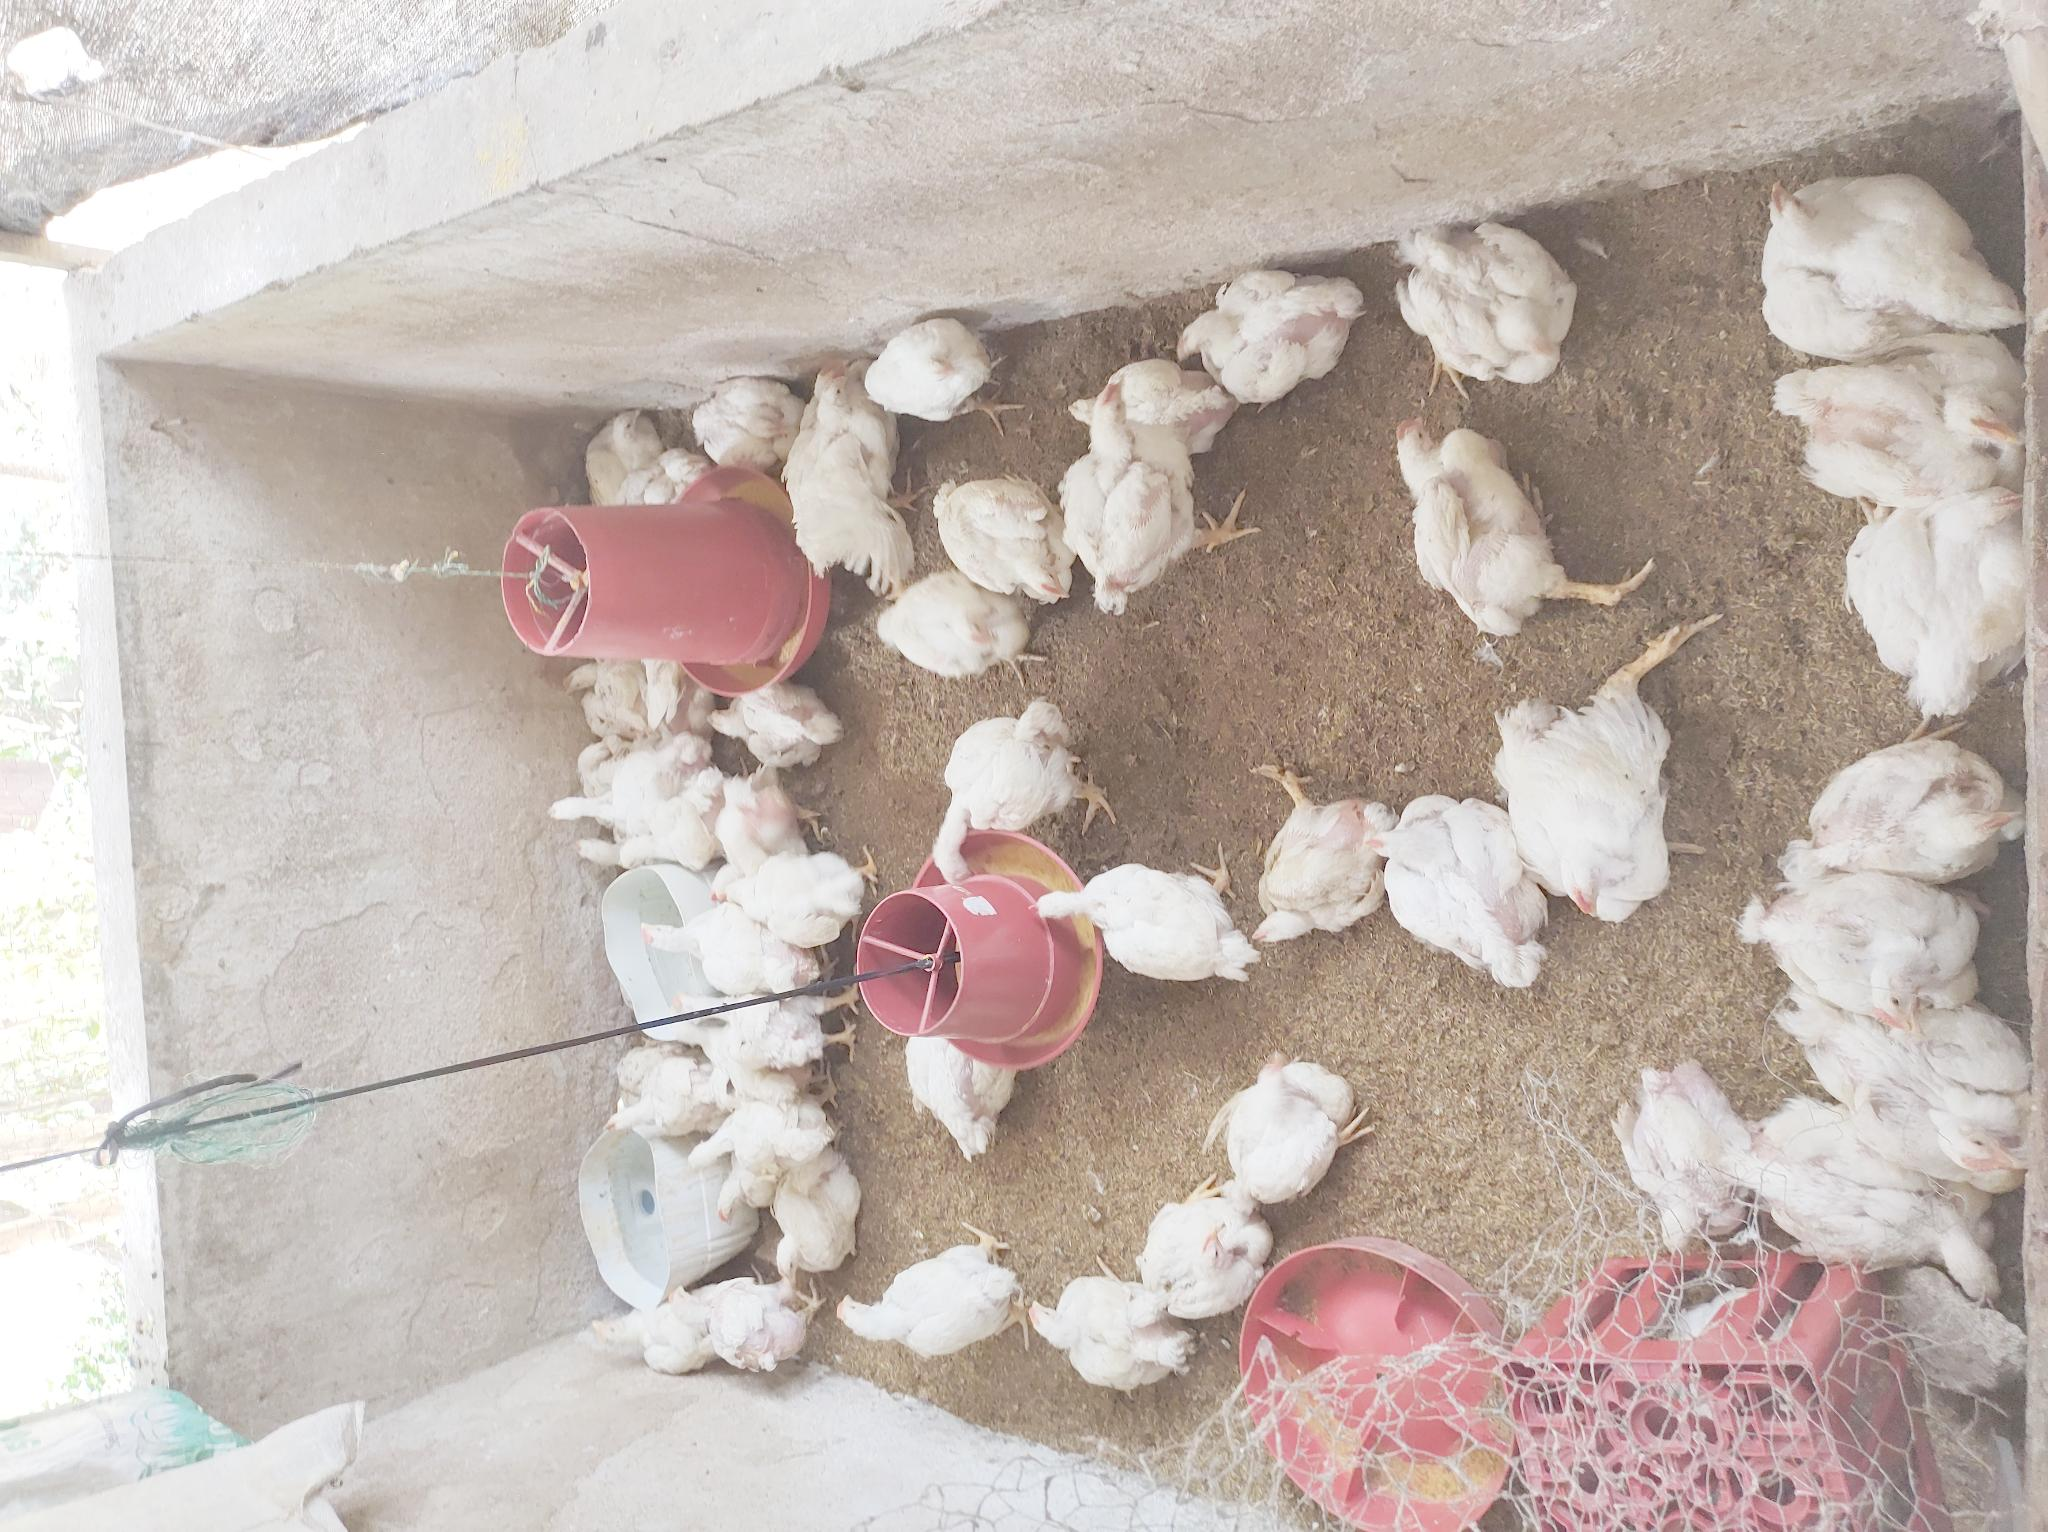Pollos: (1755, 1088, 2006, 1307), (1783, 995, 2032, 1199), (1754, 166, 2011, 359), (1832, 472, 2034, 711), (1488, 682, 1683, 929), (1781, 325, 2032, 504), (1752, 864, 1997, 1044), (1379, 410, 1565, 644), (1358, 780, 1541, 991), (1392, 224, 1588, 396), (1057, 377, 1191, 624), (1799, 732, 2021, 880), (1022, 864, 1255, 991), (1614, 1057, 1762, 1242), (928, 702, 1078, 880), (1170, 274, 1364, 406), (1237, 800, 1393, 957), (829, 1249, 1022, 1363), (1219, 1057, 1359, 1207), (792, 375, 903, 563), (1022, 1266, 1179, 1398), (928, 475, 1076, 612), (866, 570, 1034, 681), (1141, 1188, 1277, 1324), (890, 1028, 1023, 1160), (1084, 352, 1253, 455), (864, 314, 1014, 426), (631, 911, 819, 998), (529, 739, 718, 822), (705, 855, 866, 946), (714, 1131, 859, 1229), (666, 1278, 811, 1373), (709, 750, 798, 900), (668, 985, 832, 1065), (767, 1155, 857, 1291), (682, 1094, 824, 1175), (582, 1292, 722, 1371), (687, 372, 803, 467), (578, 406, 672, 513), (703, 692, 830, 768), (598, 1056, 718, 1136), (553, 657, 669, 739), (618, 789, 730, 871), (803, 346, 883, 422), (621, 452, 705, 504), (561, 726, 629, 785), (570, 834, 635, 867)
